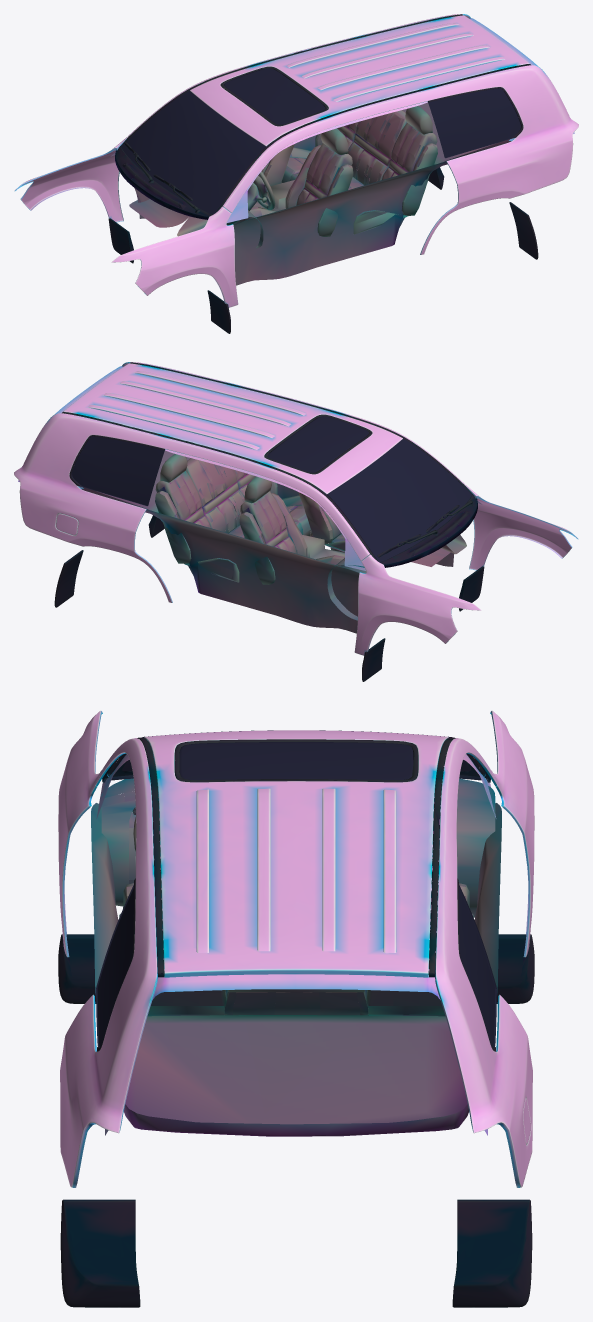
The picture shows the model from 3 angles, top to bottom: view 1: azimuth 30°, elevation 25°; view 2: azimuth 150°, elevation 25°; view 3: azimuth 270°, elevation 25°; orthographic projection. The views are drawn at different scales.
Visible parts, largest first — view 1: carpaint_6, Original seats and cabin, windowglass_39, carpaint_7, black_12, darkglass_20, black_11; view 2: carpaint_6, Original seats and cabin, windowglass_39, carpaint_7, black_12, darkglass_20, black_11; view 3: carpaint_6, Original seats and cabin, black_11, carpaint_7, darkglass_20, black_12, windowglass_39.
Part boxes in pixels (x1,y1,x2,y2): carpaint_6: [14, 14, 578, 307]; Original seats and cabin: [129, 102, 510, 285]; windowglass_39: [121, 88, 521, 214]; carpaint_7: [110, 18, 574, 222]; black_12: [115, 14, 530, 219]; darkglass_20: [224, 68, 325, 124]; black_11: [108, 87, 538, 333]; carpaint_6: [14, 362, 578, 655]; Original seats and cabin: [82, 450, 466, 633]; windowglass_39: [71, 436, 471, 562]; carpaint_7: [18, 366, 482, 570]; black_12: [62, 362, 477, 567]; darkglass_20: [267, 416, 368, 472]; black_11: [54, 435, 484, 681]; carpaint_6: [58, 710, 534, 1187]; Original seats and cabin: [91, 778, 501, 1136]; black_11: [58, 761, 534, 1307]; carpaint_7: [96, 754, 530, 1144]; darkglass_20: [179, 742, 413, 781]; black_12: [102, 737, 490, 977]; windowglass_39: [96, 730, 496, 1047].
Bounding box in the file's own units: 4.57 × 1.66 × 1.99.
